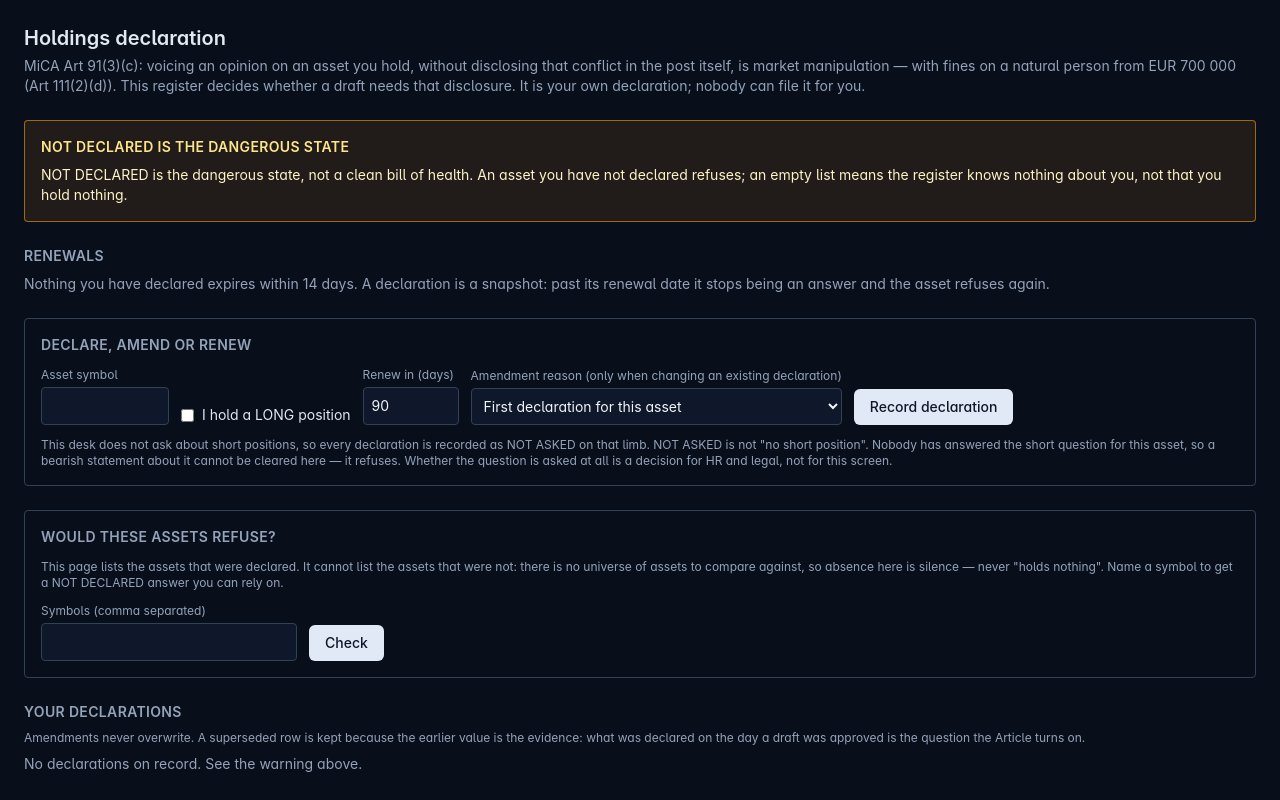
Test: a named symbol gets an answer you can act on › reports an undeclared symbol as NOT DECLARED with an unknown bearish limb
Check: the element with test id "holdings-check" is shown, box [24, 510, 1256, 678]
Type "eth" into the field named "Symbols to check" at [169, 642], box [41, 623, 297, 661]
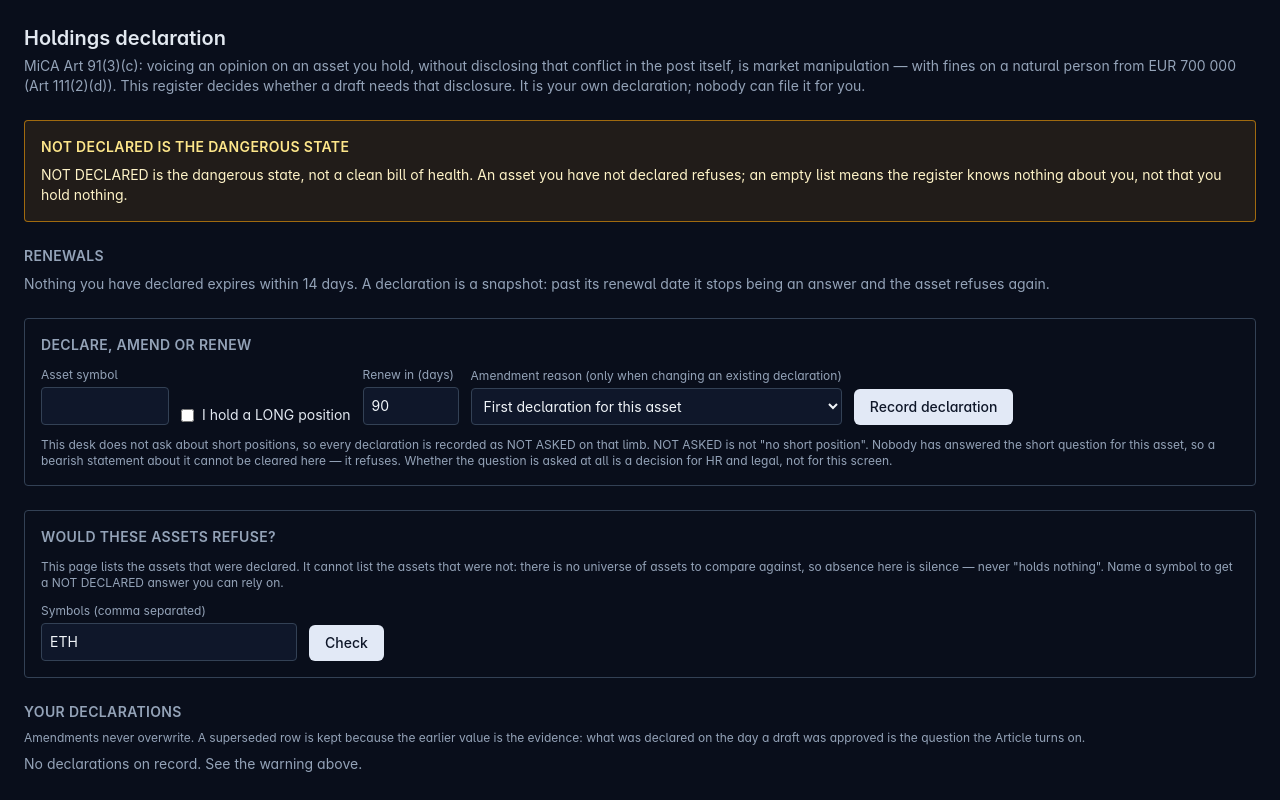
Click the button "Check" at [346, 643], box [309, 625, 384, 661]
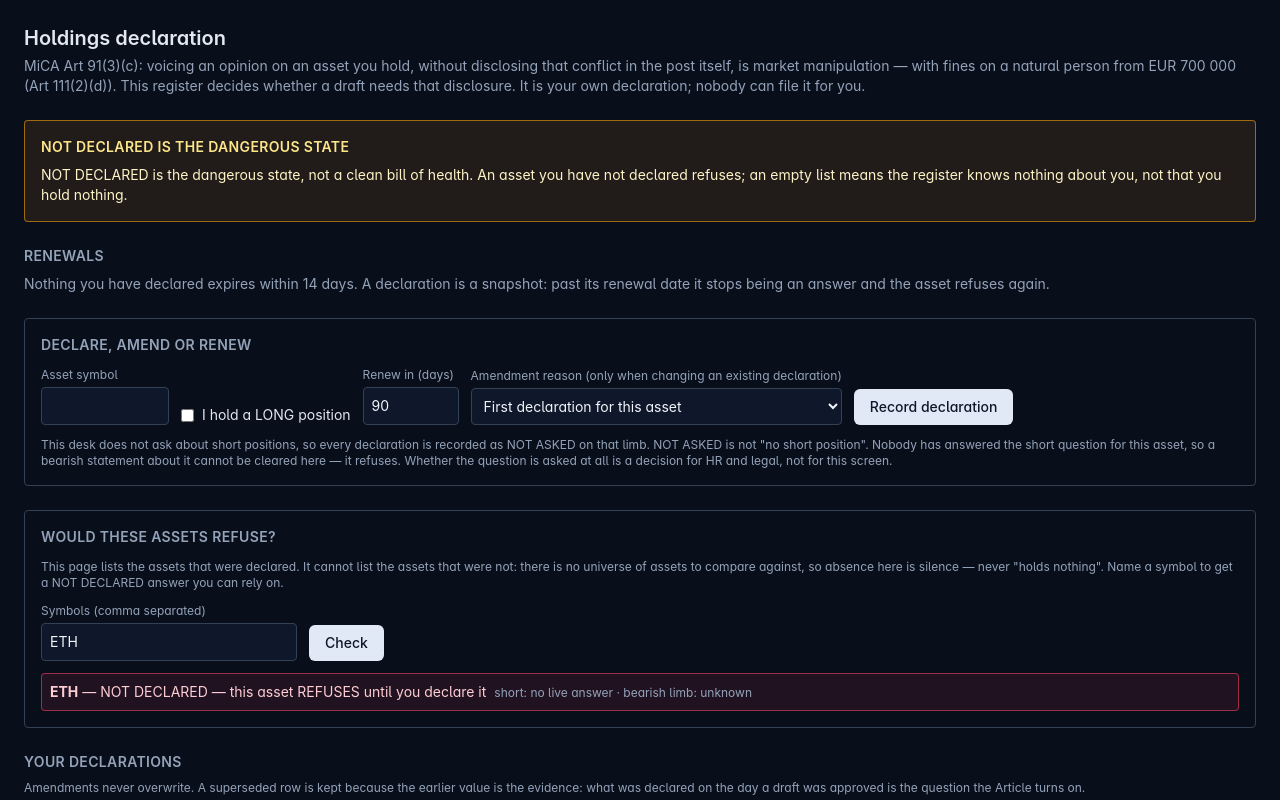
Check: the list with test id "holdings-cells" is shown, box [41, 673, 1239, 711]
